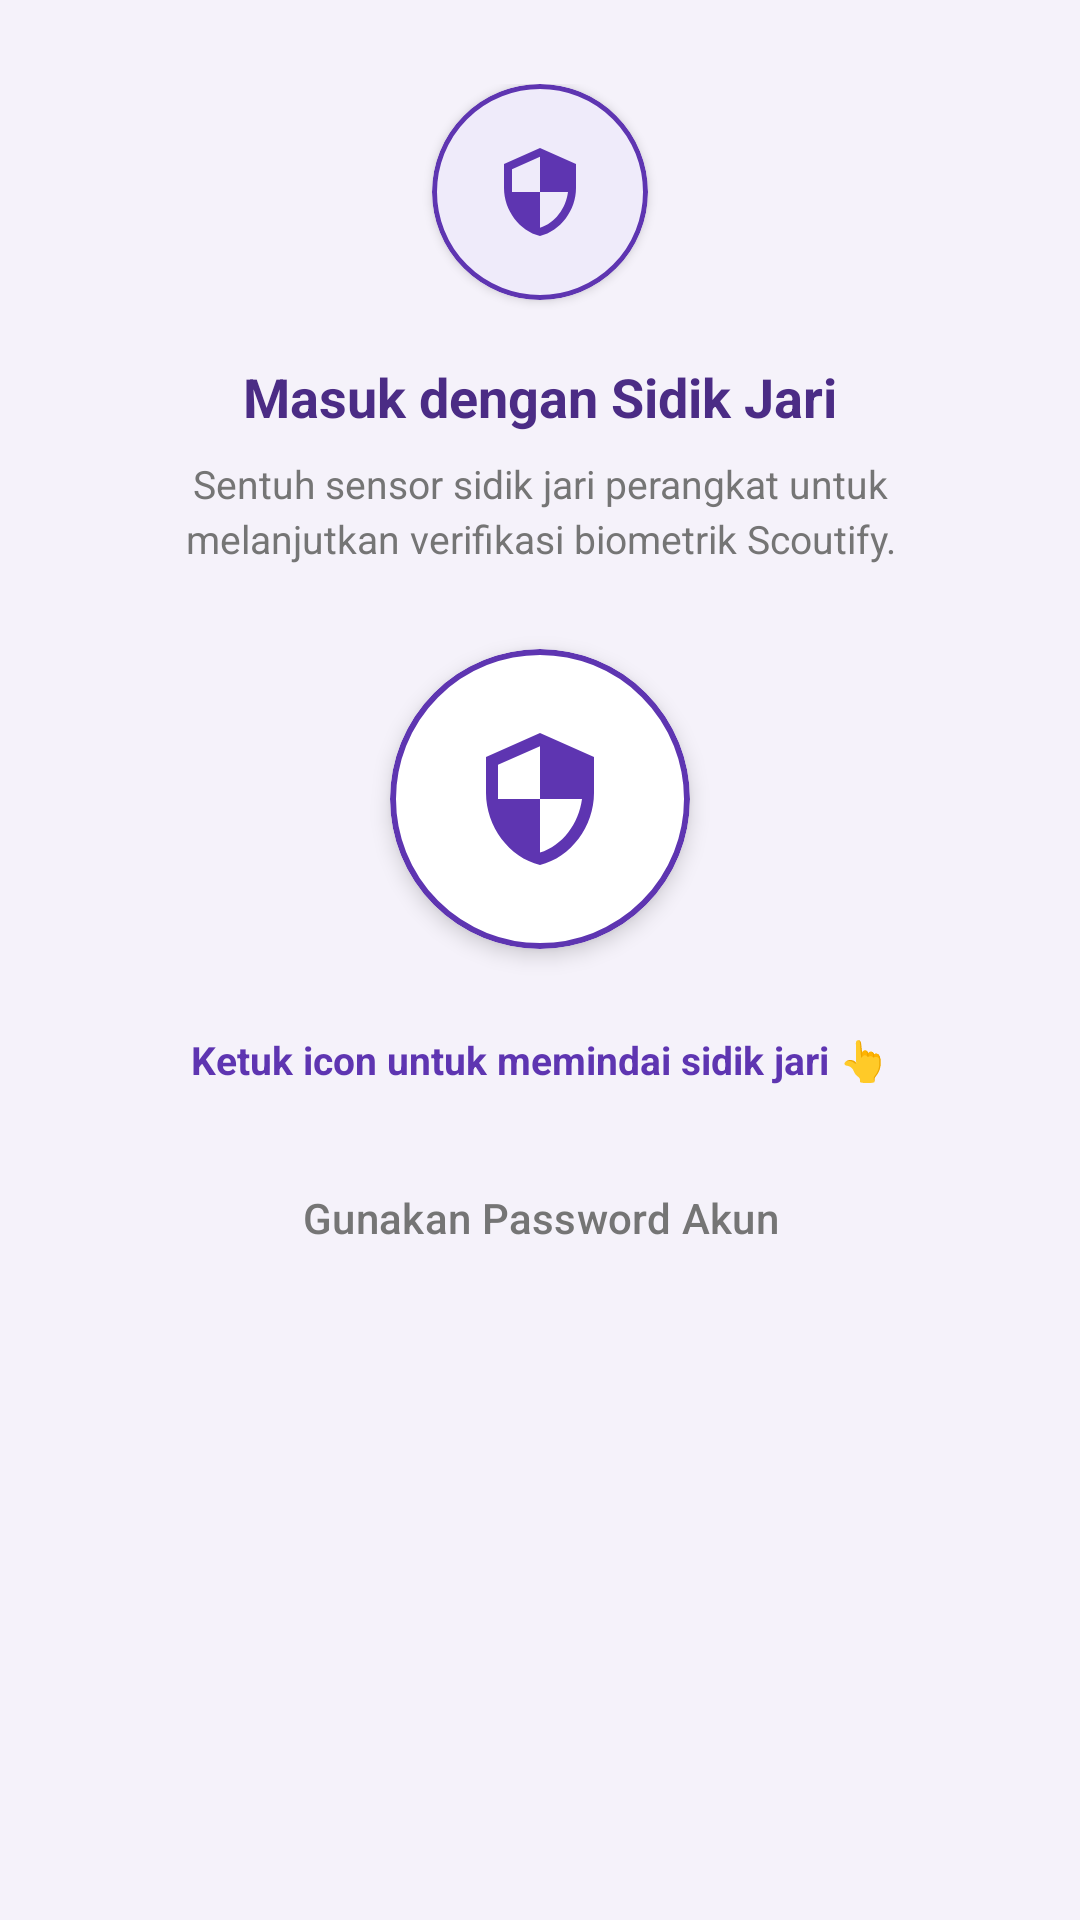

Point at icon controls on the screen. Image size 1080 x 1920, points as (x,y).
security: (540,192), (540,799)
